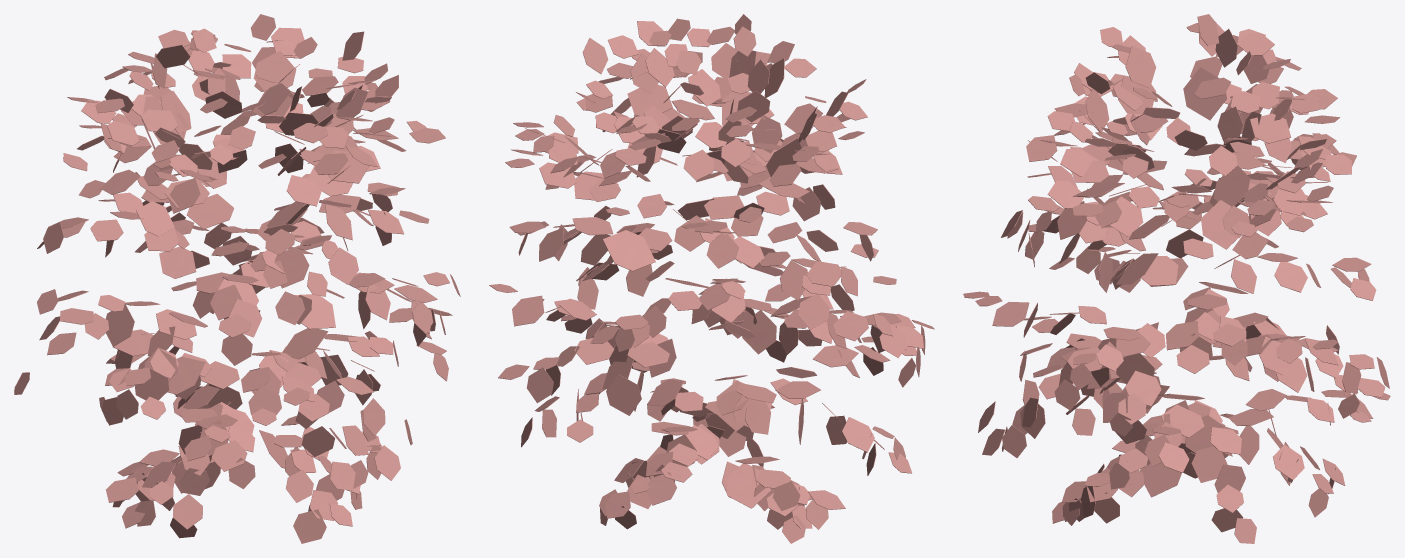
Rendered from lvl1_tree4_leaves.glb.
3 renders of one model, left to right at view 1: azimuth 30°, elevation 25°; view 2: azimuth 150°, elevation 25°; view 3: azimuth 270°, elevation 25°, orthographic.
Parts seen in each view (by area): view 1: leaves.002; view 2: leaves.002; view 3: leaves.002.
Boxes of the visible parts, x1,y1,x2,y2 form: leaves.002: (14, 14, 460, 543); leaves.002: (489, 14, 934, 543); leaves.002: (963, 14, 1390, 543).
Bounding box in the file's own units: 11.97 × 13.29 × 10.88.
Materials: 1 (1 with a texture image).
